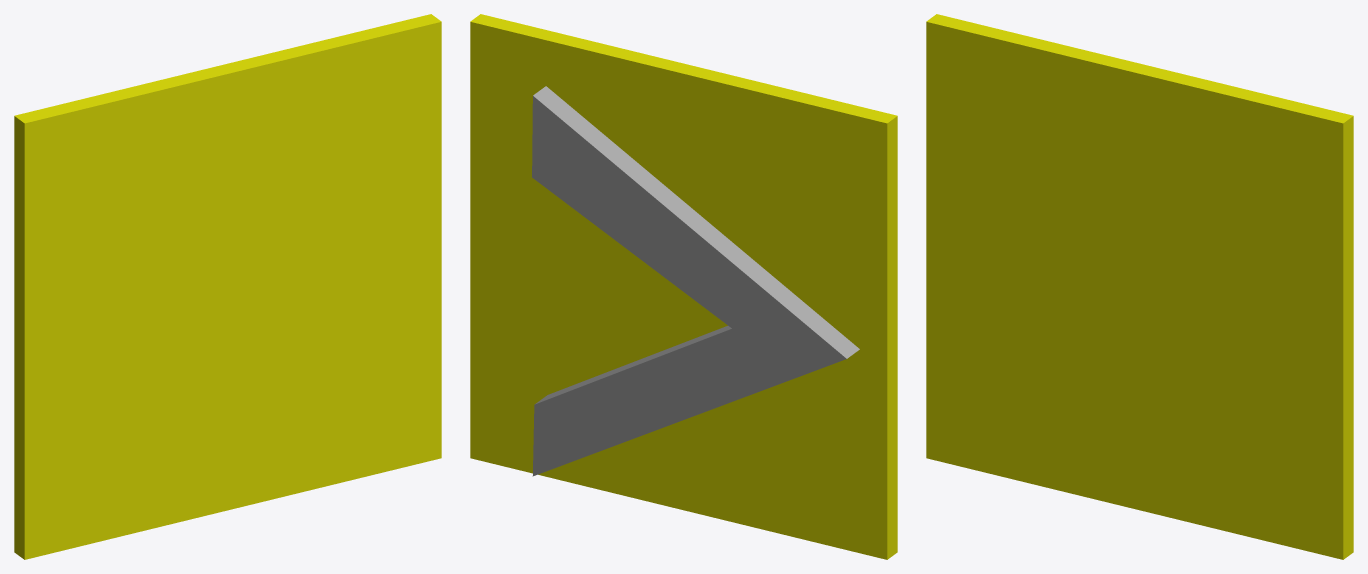
File: sighn_arrow.fbx
3 views of the same model, side by side, from view 1: azimuth 30°, elevation 25°; view 2: azimuth 150°, elevation 25°; view 3: azimuth 330°, elevation 25° (orthographic).
Parts seen in each view (by area): view 1: polySurface397; view 2: polySurface397; view 3: polySurface397.
Part boxes in pixels (x1=…): polySurface397: x1=14, y1=14, x2=441, y2=559; polySurface397: x1=470, y1=14, x2=897, y2=559; polySurface397: x1=926, y1=14, x2=1353, y2=559.
Bounding box in the file's own units: 469 × 469 × 46.21.
